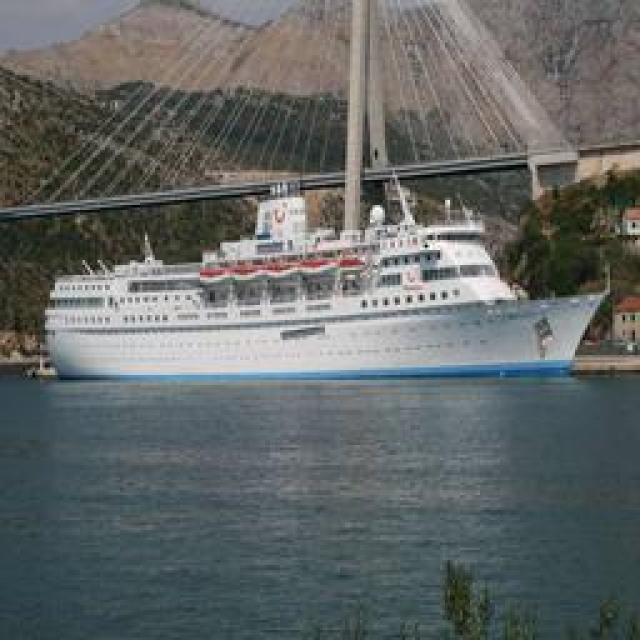Ship: (33, 180, 618, 380)
